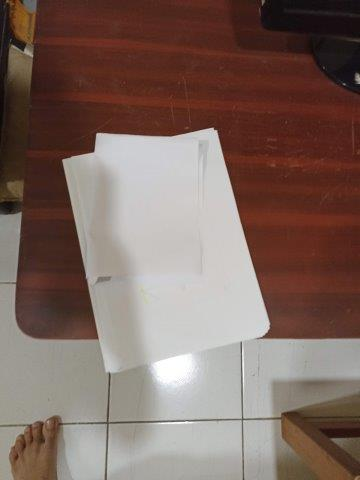kertas: (62, 127, 270, 373)
